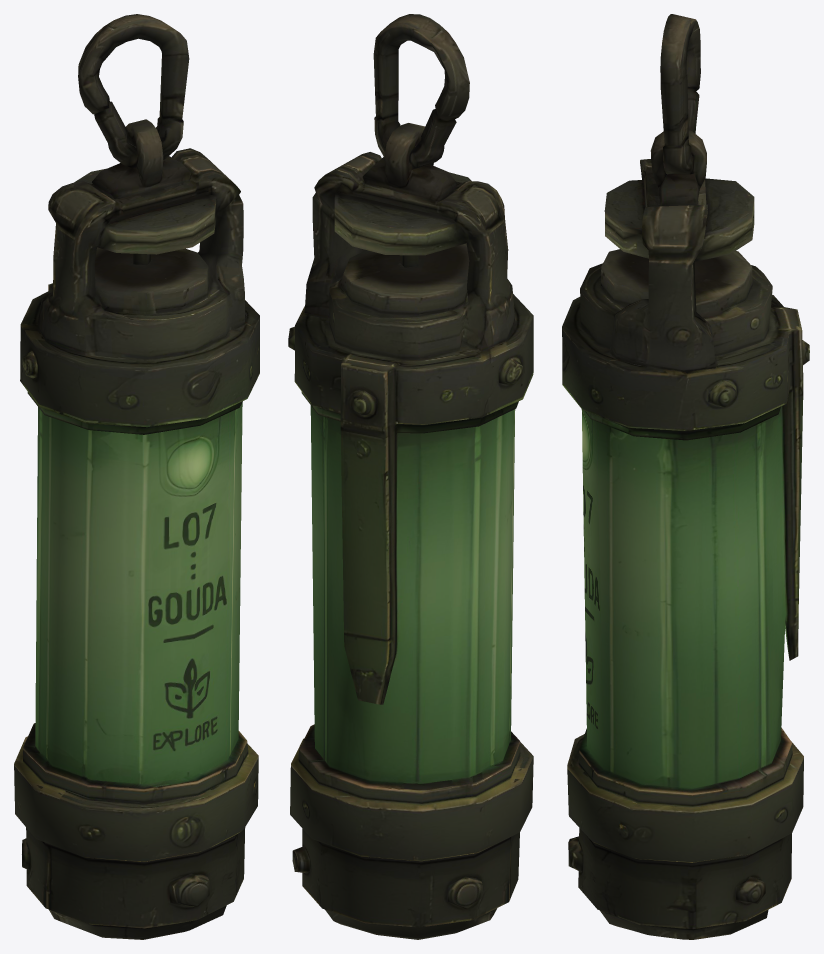
Rendered from light_stick.glb.
3 views of the same model, side by side, from view 1: azimuth 30°, elevation 25°; view 2: azimuth 150°, elevation 25°; view 3: azimuth 270°, elevation 25° (orthographic).
Visible parts, largest first — view 1: tripo_node_5be2bd15-46a2-43cd-a8eb-cead822d96df, tripo_node_5be2bd15-46a2-43cd-a8eb-cead822d96df.001; view 2: tripo_node_5be2bd15-46a2-43cd-a8eb-cead822d96df, tripo_node_5be2bd15-46a2-43cd-a8eb-cead822d96df.001; view 3: tripo_node_5be2bd15-46a2-43cd-a8eb-cead822d96df, tripo_node_5be2bd15-46a2-43cd-a8eb-cead822d96df.001.
Part boxes in pixels (box(x1,y1,x2,y2)): tripo_node_5be2bd15-46a2-43cd-a8eb-cead822d96df: box(14, 119, 259, 939); tripo_node_5be2bd15-46a2-43cd-a8eb-cead822d96df.001: box(78, 14, 189, 169); tripo_node_5be2bd15-46a2-43cd-a8eb-cead822d96df: box(288, 123, 533, 939); tripo_node_5be2bd15-46a2-43cd-a8eb-cead822d96df.001: box(373, 14, 469, 169); tripo_node_5be2bd15-46a2-43cd-a8eb-cead822d96df: box(562, 130, 809, 939); tripo_node_5be2bd15-46a2-43cd-a8eb-cead822d96df.001: box(660, 14, 700, 174).
Size of the model in its own units: 0.2525 by 0.9966 by 0.2532.
Materials: 1 (1 with a texture image).
